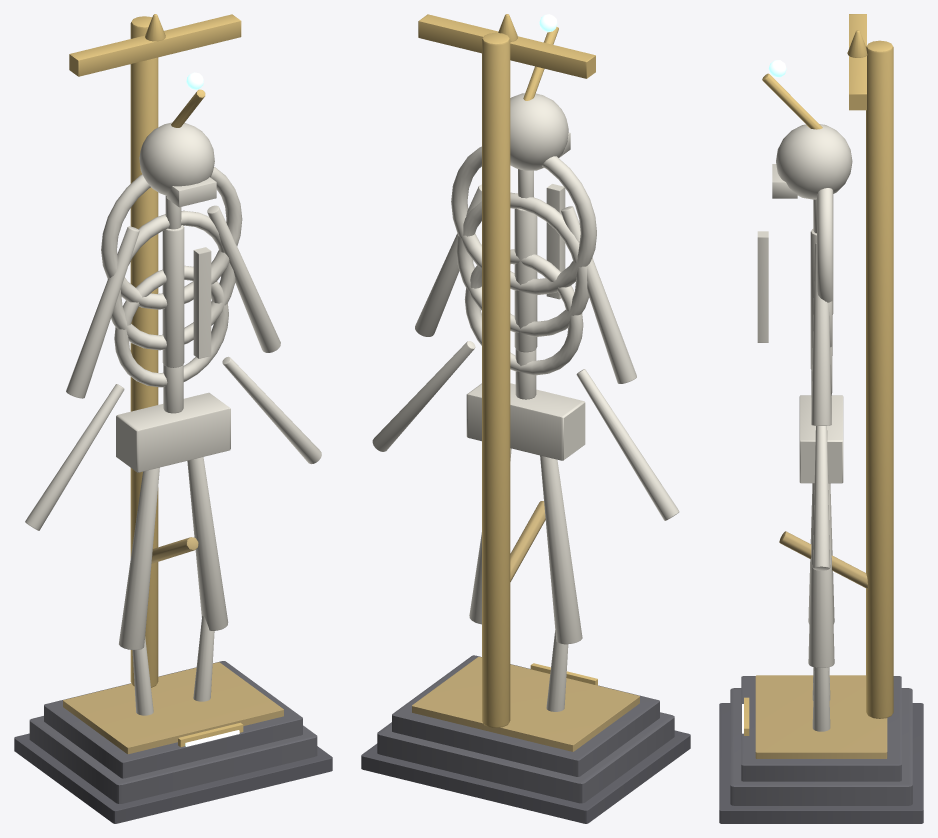
File: hp_room_museum_skeleton_mount.glb
3 renders of one model, left to right at view 1: azimuth 30°, elevation 25°; view 2: azimuth 150°, elevation 25°; view 3: azimuth 270°, elevation 25°, orthographic. The views are drawn at different scales.
Visible parts, largest first — view 1: room_museum_skeleton_mount; view 2: room_museum_skeleton_mount; view 3: room_museum_skeleton_mount.
Part boxes in pixels (<box>): room_museum_skeleton_mount: <box>14,14,332,823</box>; room_museum_skeleton_mount: <box>361,14,690,823</box>; room_museum_skeleton_mount: <box>719,14,923,823</box>.
Bounding box in the file's own units: 0.9385 × 2.24 × 0.56.
